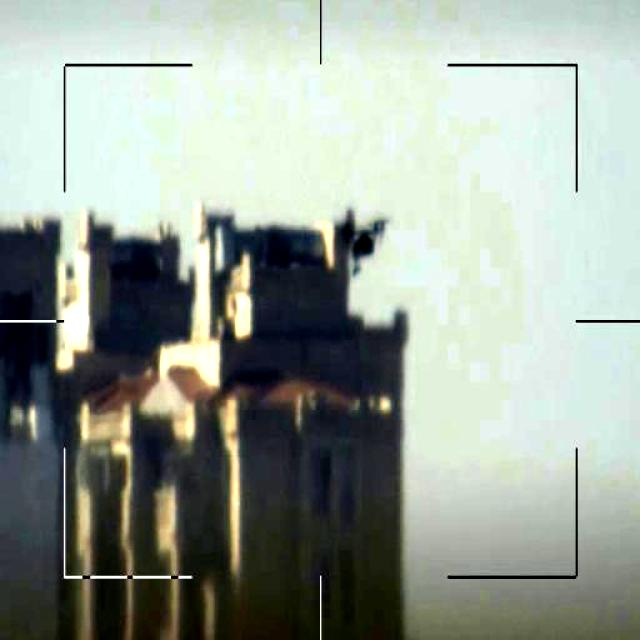bird: (339, 206, 388, 272)
